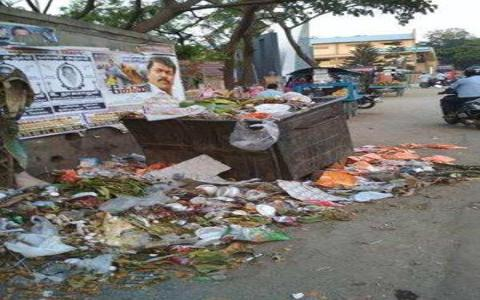overflowing garbage: (120, 92, 348, 261)
